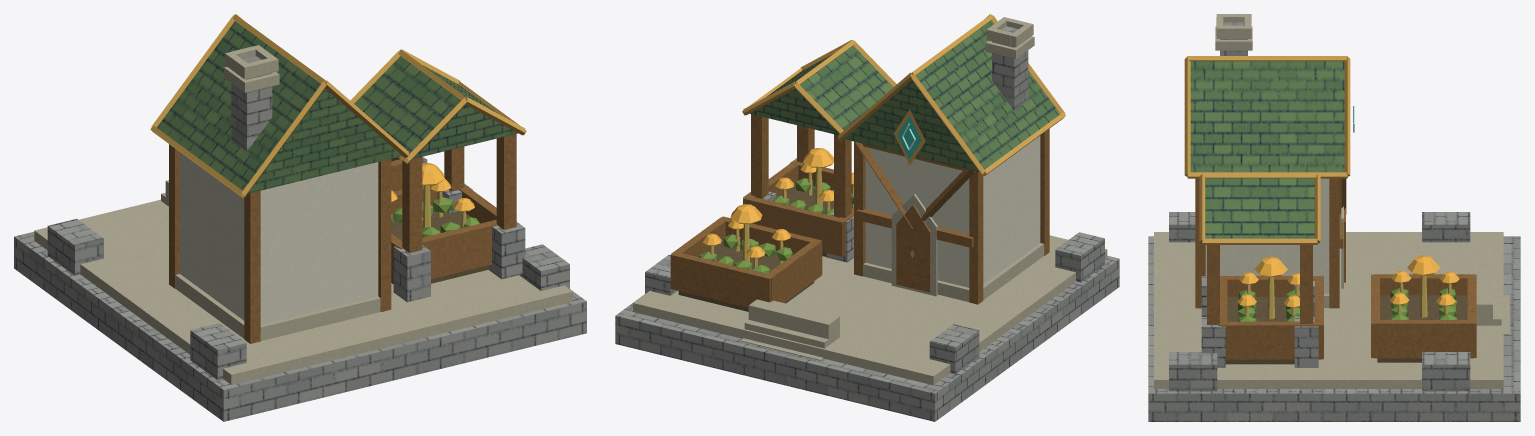
Rendered from Farm_1.fbx.
The picture shows the model from 3 angles, left to right: view 1: azimuth 30°, elevation 25°; view 2: azimuth 150°, elevation 25°; view 3: azimuth 270°, elevation 25°; orthographic projection. The views are drawn at different scales.
Parts seen in each view (by area): view 1: BuildingBody; view 2: BuildingBody; view 3: BuildingBody.
Part boxes in pixels (x1,y1,x2,y2): BuildingBody: (14, 14, 586, 421); BuildingBody: (615, 14, 1119, 421); BuildingBody: (1148, 14, 1520, 421).
Size of the model in its own units: 1 by 0.82 by 1.
1 material, 1 textured.
